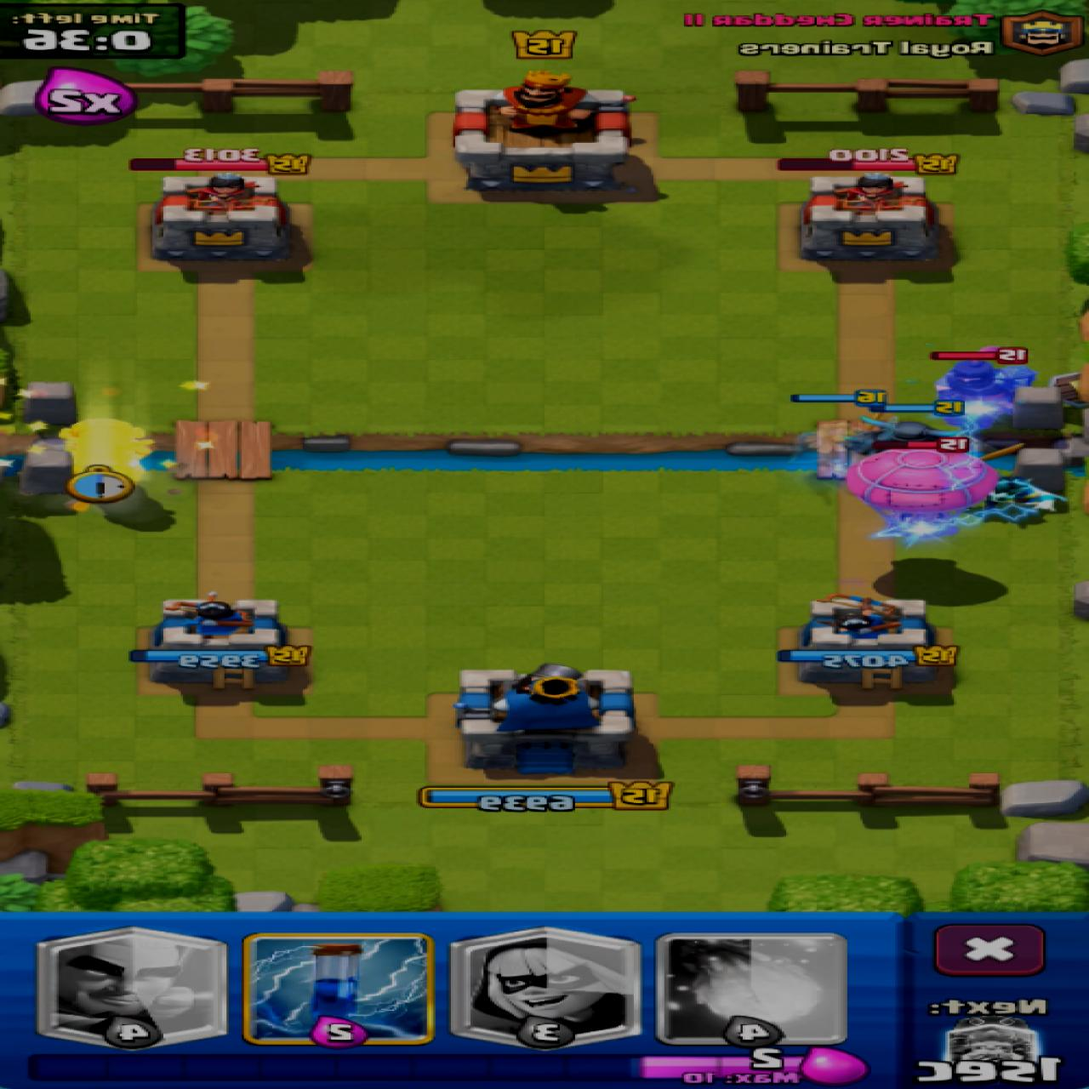Enemy-Balloon: (847, 447, 998, 544)
Enemy-DarkPrince: (939, 347, 1035, 428)
Enemy-KingTower: (455, 71, 632, 194)
Enemy-PrincessTower: (152, 174, 298, 263), (802, 173, 939, 261)
